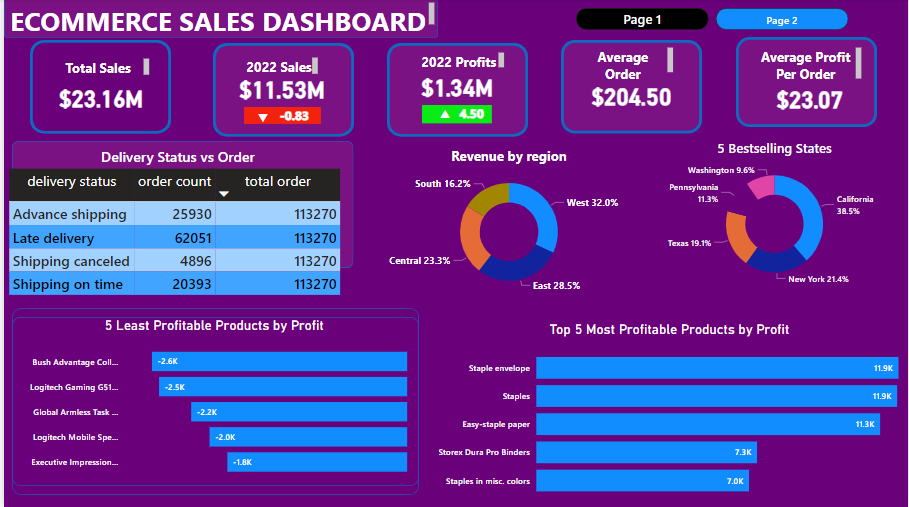

The page's visual inventory and layout, read from the dashboard file:
{"tool":"powerbi","page":{"name":"Page 2","canvas":[1280,720],"ordinal":1},"visuals":[{"type":"shape","box":[0,0,615,55],"z":0},{"type":"textbox","box":[0,0,615.1,55.3],"z":1000},{"type":"shape","box":[296.7,62.9,200,132.9],"z":1000,"group":"g1"},{"type":"shape","box":[790.1,58.7,200,132.5],"z":2000,"group":"g4"},{"type":"shape","box":[11.2,201.2,483.8,180],"z":2000},{"type":"shape","box":[37.1,58.6,200,132.9],"z":3000},{"type":"card","fields":{"Values":["Sum(revenue by year.total_yearly_revenue)"]},"box":[321,90,147.1,72.9],"z":3000,"group":"g1"},{"type":"card","fields":{"Values":["Sum(average order value.avg_order_value)"]},"box":[825.1,106.2,128.8,60],"z":3000,"group":"g4"},{"type":"shape","box":[1037.1,54.3,200,127.6],"z":4000,"group":"g2"},{"type":"shape","box":[341,152.9,108.6,24.3],"z":4000,"group":"g6"},{"type":"tableEx","title":"Delivery Status vs Order","fields":{"Values":["delivery status and order.delivery_status","delivery status and order.order_by_delivery_status","delivery status and order.total_order"]},"box":[1.4,208.6,490,230],"z":4000},{"type":"shape","box":[543.4,62.5,200,132.9],"z":4500,"group":"g3"},{"type":"textbox","box":[1059.6,64.7,160,57.2],"z":5000,"group":"g2"},{"type":"card","fields":{"Values":["Sum(Total Revenue.Total_Revenue)"]},"box":[64.3,101.4,147.1,72.9],"z":5000},{"type":"shape","box":[593.4,151.1,98.6,25.7],"z":5000,"group":"g3"},{"type":"card","fields":{"Values":["Sum(revenue percent change.revenue_percent_change)"]},"box":[384.7,152.9,55,25.7],"z":5000,"group":"g6"},{"type":"card","fields":{"Values":["Sum(average profit per order.avg_profit_per_order)"]},"box":[1069,98.1,146.2,85.9],"z":6000,"group":"g2"},{"type":"card","fields":{"Values":["ecommerce_data.Sales Icon"]},"box":[350.9,155.8,33.8,28.6],"z":6000,"group":"g6"},{"type":"shape","box":[11.3,438,576.9,265],"z":6000},{"type":"card","fields":{"Values":["Sum(profit percent change.profit_percent_change)"]},"box":[633.4,146.8,58.6,35.7],"z":7000,"group":"g3"},{"type":"barChart","title":"Top 5 Most Profitable Products by Profit","fields":{"Category":["5 most profitable products.product"],"Y":["Sum(5 most profitable products.profit)"]},"box":[609.4,456.4,667.6,263.6],"z":7000},{"type":"card","fields":{"Values":["ecommerce_data.Profit Icon"]},"box":[609.1,149.6,34.3,30],"z":8000,"group":"g3"},{"type":"shape","box":[922.7,208.3,338.7,240.9],"z":8000},{"type":"shape","box":[11.3,450.7,576.9,239.5],"z":8000,"group":"g5"},{"type":"textbox","box":[587.7,70.4,127.1,32.9],"z":9000,"group":"g3"},{"type":"donutChart","title":"5 Bestselling States","fields":{"Y":["Sum(5 bestselling states.revenue_per_state)"],"Category":["5 bestselling states.state"]},"box":[922.7,198.4,338.7,215.4],"z":9000},{"type":"group","id":"g1","title":"Group 5","box":[296.7,62.9,200,132.9],"z":10000},{"type":"card","fields":{"Values":["Sum(profit by year.total_yearly_profit)"]},"box":[553.4,103.9,178.6,41.4],"z":10000,"group":"g3"},{"type":"clusteredBarChart","title":"5 Least Profitable Products by Profit","fields":{"Category":["5 least profitable products.product"],"Y":["Sum(5 least profitable products.profit)"]},"box":[17.9,451.1,558.4,239.5],"z":10000,"group":"g5"},{"type":"group","id":"g2","title":"Group 3","box":[1037.1,54.3,200,130],"z":11000},{"type":"group","id":"g3","title":"Group 2","box":[543.4,62.5,200,132.9],"z":12000},{"type":"group","id":"g4","title":"Group 4","box":[790.1,58.7,200,132.5],"z":13000},{"type":"textbox","box":[64.3,80,147.1,34.3],"z":14000},{"type":"textbox","box":[338.6,78.6,111.4,34.3],"z":15000},{"type":"group","id":"g5","title":"Group 6","box":[11.3,450.7,576.9,239.9],"z":16000},{"type":"group","id":"g6","title":"Group 1","box":[341,152.9,108.6,31.4],"z":17000,"group":"g1"},{"type":"donutChart","title":"Revenue by region","fields":{"Category":["Bestselling region.region"],"Y":["Sum(Bestselling region.revenue_per_region)"]},"box":[535.7,209.8,360,215.4],"z":17000},{"type":"pageNavigator","box":[810.7,12.8,386.9,31.2],"z":18000},{"type":"textbox","box":[810.1,63.7,143.8,61.2],"z":19000,"group":"g4"}]}

Visuals, with their boxes in screenshot pixels (x1, y1, x2, y2), scaled from the page's 1280x720 canvas onto the 909x507 screenshot:
shape: box=[0, 0, 437, 39]
textbox: box=[0, 0, 437, 39]
shape: box=[211, 44, 353, 138]
shape: box=[561, 41, 703, 135]
shape: box=[8, 142, 352, 268]
shape: box=[26, 41, 168, 135]
card - Sum(revenue by year.total_yearly_revenue): box=[228, 63, 332, 115]
card - Sum(average order value.avg_order_value): box=[586, 75, 677, 117]
shape: box=[737, 38, 879, 128]
shape: box=[242, 108, 319, 125]
"Delivery Status vs Order" tableEx: box=[1, 147, 349, 309]
shape: box=[386, 44, 528, 138]
textbox: box=[752, 46, 866, 86]
card - Sum(Total Revenue.Total_Revenue): box=[46, 71, 150, 123]
shape: box=[421, 106, 491, 124]
card - Sum(revenue percent change.revenue_percent_change): box=[273, 108, 312, 126]
card - Sum(average profit per order.avg_profit_per_order): box=[759, 69, 863, 130]
card - ecommerce_data.Sales Icon: box=[249, 110, 273, 130]
shape: box=[8, 308, 418, 495]
card - Sum(profit percent change.profit_percent_change): box=[450, 103, 491, 129]
"Top 5 Most Profitable Products by Profit" barChart: box=[433, 321, 907, 506]
card - ecommerce_data.Profit Icon: box=[433, 105, 457, 126]
shape: box=[655, 147, 896, 316]
shape: box=[8, 317, 418, 486]
textbox: box=[417, 50, 508, 73]
"5 Bestselling States" donutChart: box=[655, 140, 896, 291]
"Group 5" group: box=[211, 44, 353, 138]
card - Sum(profit by year.total_yearly_profit): box=[393, 73, 520, 102]
"5 Least Profitable Products by Profit" clusteredBarChart: box=[13, 318, 409, 486]
"Group 3" group: box=[737, 38, 879, 130]
"Group 2" group: box=[386, 44, 528, 138]
"Group 4" group: box=[561, 41, 703, 135]
textbox: box=[46, 56, 150, 80]
textbox: box=[240, 55, 320, 80]
"Group 6" group: box=[8, 317, 418, 486]
"Group 1" group: box=[242, 108, 319, 130]
"Revenue by region" donutChart: box=[380, 148, 636, 299]
pageNavigator: box=[576, 9, 850, 31]
textbox: box=[575, 45, 677, 88]
